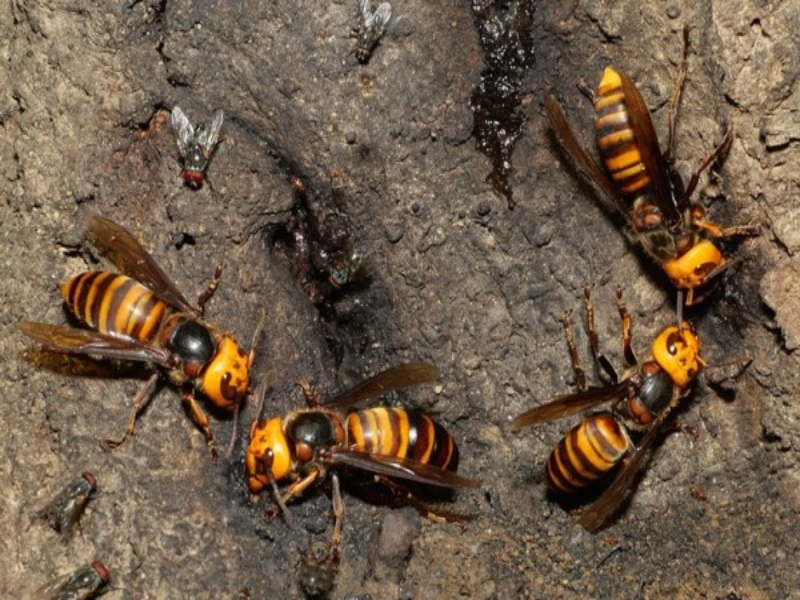asian_giant_hornet: (587, 64, 731, 308), (59, 262, 265, 414), (541, 318, 707, 501), (243, 402, 464, 510)
